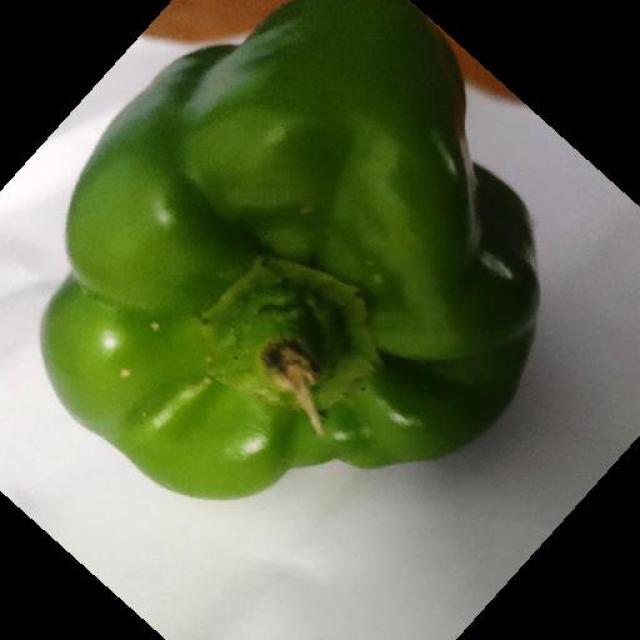Fresh_Capsicum: (25, 16, 552, 503)
